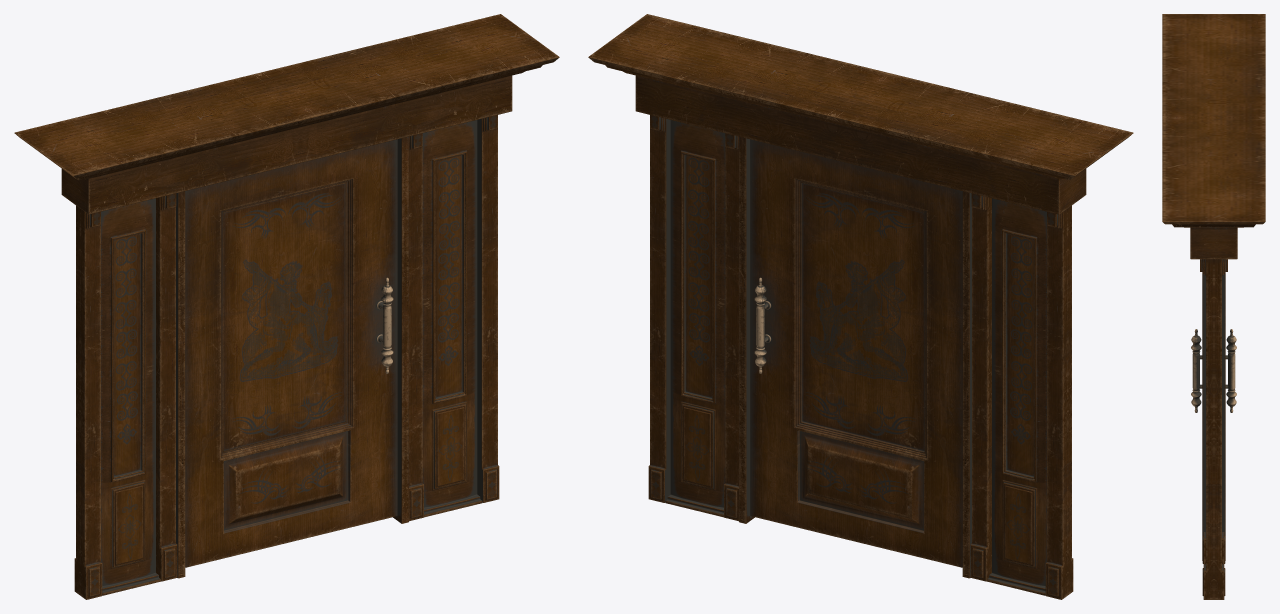
File: door__wooden_18_mb.glb
The picture shows the model from 3 angles, left to right: view 1: azimuth 30°, elevation 25°; view 2: azimuth 150°, elevation 25°; view 3: azimuth 270°, elevation 25°; orthographic projection. The views are drawn at different scales.
Visible parts, largest first — view 1: Base_2, Door_2; view 2: Base_2, Door_2; view 3: Base_2, Door_2.
Boxes of the visible parts, x1,y1,x2,y2 form: Base_2: (14,14,559,599); Door_2: (185,139,397,567); Base_2: (588,14,1133,599); Door_2: (750,139,962,567); Base_2: (1162,14,1265,599); Door_2: (1191,329,1236,412).
Bounding box in the file's own units: 7.72 × 6.83 × 1.62.
Materials: 2 (2 with a texture image).
